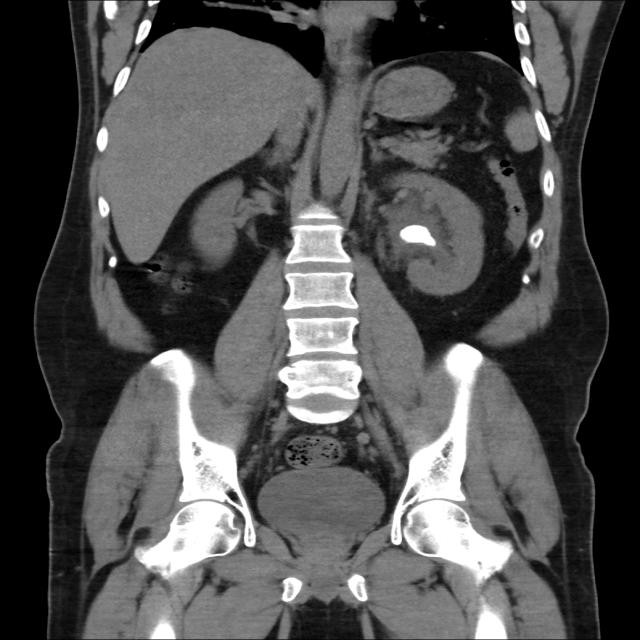kidneystone: (400, 225, 436, 246)
